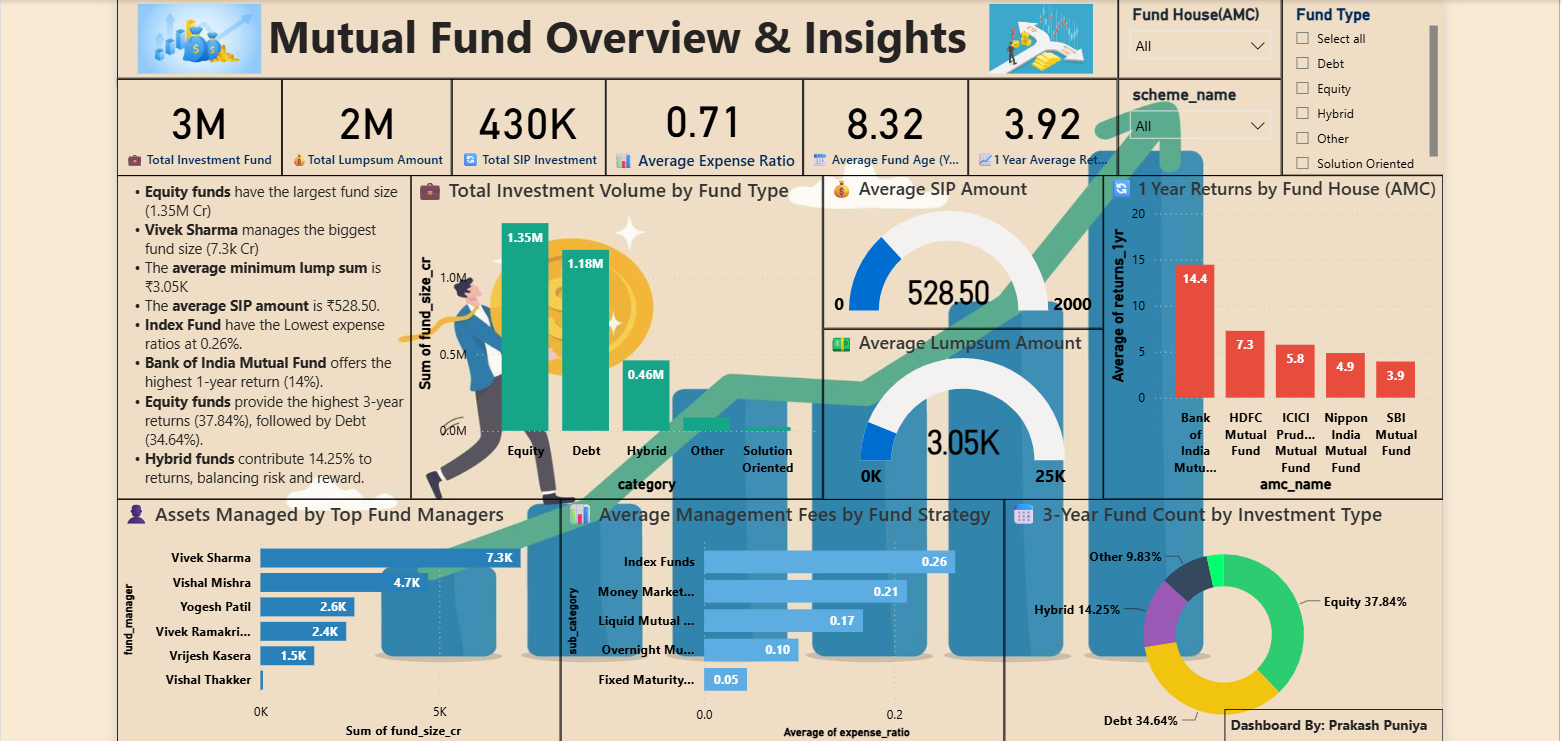

What the dashboard file says about the page in this screenshot:
{"tool":"powerbi","page":{"name":"Page 1","canvas":[1280,720],"ordinal":0},"visuals":[{"type":"donutChart","title":"📅 3-Year Fund Count by Investment Type","fields":{"Category":["Mutual Fund.category"],"Y":["CountNonNull(Mutual Fund.returns_3yr)"]},"box":[856.3,483,424,237.4],"z":0},{"type":"barChart","title":"📊 Average Management Fees by Fund Strategy","fields":{"Category":["Mutual Fund.sub_category"],"Y":["Avg(Mutual Fund.expense_ratio)"]},"box":[428.1,483,428.1,237.4],"z":1000},{"type":"barChart","title":"👤 Assets Managed by Top Fund Managers","fields":{"Category":["Mutual Fund.fund_manager"],"Y":["Sum(Mutual Fund.fund_size_cr)"]},"box":[0,483,428.1,237.4],"z":2000},{"type":"lineStackedColumnComboChart","title":"💼 Total Investment Volume by Fund Type","fields":{"Category":["Mutual Fund.category"],"Y":["Sum(Mutual Fund.fund_size_cr)"]},"box":[284,170.2,397.9,312.9],"z":3000},{"type":"gauge","title":"💵 Average Lumpsum Amount","fields":{"Y":["Avg(Mutual Fund.min_lumpsum)"],"MinValue":["Min(Mutual Fund.min_lumpsum)1"],"MaxValue":["Max(Mutual Fund.min_lumpsum)2"]},"box":[682,318.4,270.3,164.7],"z":4000},{"type":"gauge","title":"💰 Average SIP Amount","fields":{"Y":["Avg(Mutual Fund.min_sip)"],"MinValue":["Min(Mutual Fund.min_sip)1"],"MaxValue":["Max(Mutual Fund.min_sip)2"]},"box":[682,170.2,270.3,148.2],"z":5000},{"type":"columnChart","title":"🔄 1 Year Returns by Fund House (AMC)","fields":{"Category":["Mutual Fund.amc_name"],"Y":["Avg(Mutual Fund.returns_1yr)"]},"box":[952.3,170.2,328,312.9],"z":6000},{"type":"slicer","fields":{"Values":["Mutual Fund.category"]},"box":[1123.8,0,156.4,170.2],"z":7000},{"type":"slicer","fields":{"Values":["Mutual Fund.amc_name"]},"box":[966,0,157.8,76.8],"z":8000},{"type":"slicer","fields":{"Values":["Mutual Fund.scheme_name"]},"box":[966,76.8,157.8,93.3],"z":9000},{"type":"card","fields":{"Values":["Sum(Mutual Fund.fund_size_cr)"]},"box":[0,76.8,159.2,93.3],"z":10000},{"type":"card","fields":{"Values":["Sum(Mutual Fund.min_lumpsum)"]},"box":[159.2,76.8,164.7,93.3],"z":11000},{"type":"card","fields":{"Values":["Sum(Mutual Fund.min_sip)"]},"box":[322.5,76.8,149.6,93.3],"z":12000},{"type":"card","fields":{"Values":["Avg(Mutual Fund.expense_ratio)"]},"box":[472,76.8,190.7,93.3],"z":13000},{"type":"card","fields":{"Values":["Avg(Mutual Fund.fund_age_yr)"]},"box":[662.8,76.8,159.2,93.3],"z":14000},{"type":"card","fields":{"Values":["Avg(Mutual Fund.returns_1yr)"]},"box":[822,76.8,144.1,93.3],"z":15000},{"type":"textbox","box":[0,0,966,76.8],"z":16000},{"type":"textbox","box":[0,170.2,284,312.9],"z":17000},{"type":"image","box":[0,0,159.2,76.8],"z":18000},{"type":"image","box":[817.8,0,148.2,76.8],"z":19000},{"type":"textbox","box":[1069,684.7,211.3,35.7],"z":20000}]}

Visuals, with their boxes in screenshot pixels (x1, y1, x2, y2):
"📅 3-Year Fund Count by Investment Type" donutChart: (x1=823, y1=500, x2=1269, y2=740)
"📊 Average Management Fees by Fund Strategy" barChart: (x1=373, y1=500, x2=823, y2=740)
"👤 Assets Managed by Top Fund Managers" barChart: (x1=0, y1=500, x2=373, y2=740)
"💼 Total Investment Volume by Fund Type" lineStackedColumnComboChart: (x1=221, y1=171, x2=640, y2=500)
"💵 Average Lumpsum Amount" gauge: (x1=640, y1=327, x2=924, y2=500)
"💰 Average SIP Amount" gauge: (x1=640, y1=171, x2=924, y2=327)
"🔄 1 Year Returns by Fund House (AMC)" columnChart: (x1=924, y1=171, x2=1269, y2=500)
slicer - Mutual Fund.category: (x1=1104, y1=0, x2=1269, y2=171)
slicer - Mutual Fund.amc_name: (x1=938, y1=0, x2=1104, y2=73)
slicer - Mutual Fund.scheme_name: (x1=938, y1=73, x2=1104, y2=171)
card - Sum(Mutual Fund.fund_size_cr): (x1=0, y1=73, x2=90, y2=171)
card - Sum(Mutual Fund.min_lumpsum): (x1=90, y1=73, x2=263, y2=171)
card - Sum(Mutual Fund.min_sip): (x1=262, y1=73, x2=419, y2=171)
card - Avg(Mutual Fund.expense_ratio): (x1=419, y1=73, x2=619, y2=171)
card - Avg(Mutual Fund.fund_age_yr): (x1=619, y1=73, x2=787, y2=171)
card - Avg(Mutual Fund.returns_1yr): (x1=787, y1=73, x2=938, y2=171)
textbox: (x1=0, y1=0, x2=938, y2=73)
textbox: (x1=0, y1=171, x2=221, y2=500)
image: (x1=0, y1=0, x2=90, y2=73)
image: (x1=782, y1=0, x2=938, y2=73)
textbox: (x1=1047, y1=712, x2=1269, y2=740)
